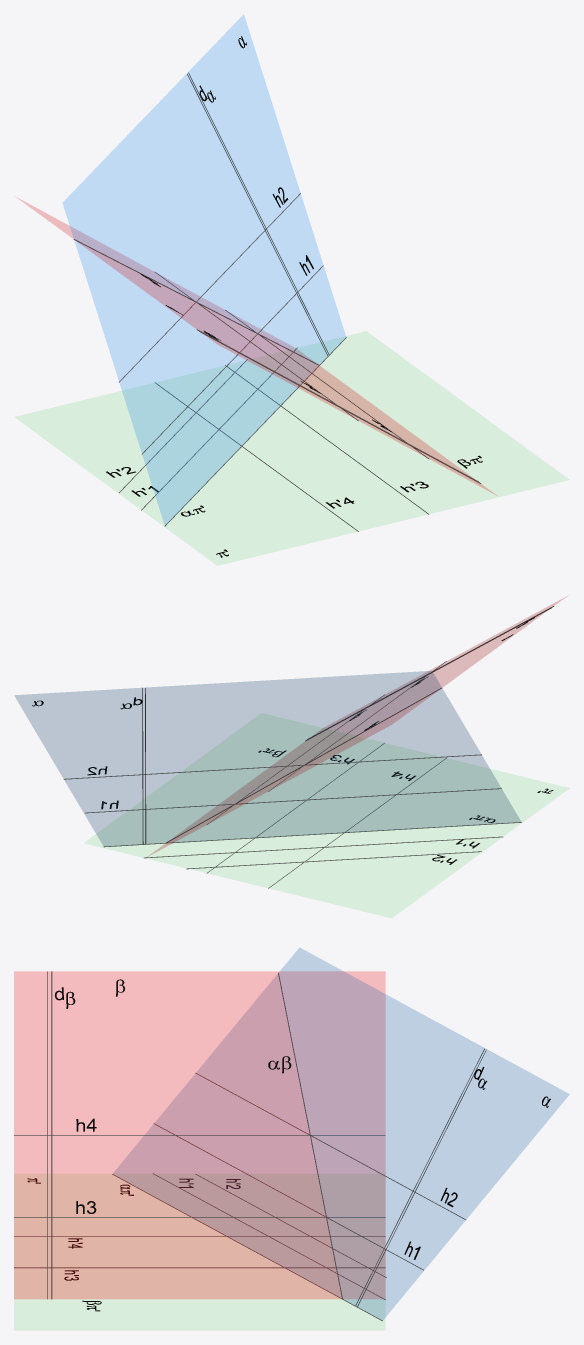
Rendered from int_pq_pqN.glb.
3 renders of one model, top to bottom at view 1: azimuth 30°, elevation 25°; view 2: azimuth 150°, elevation 25°; view 3: azimuth 270°, elevation 25°, orthographic. The views are drawn at different scales.
Parts seen in each view (by area): view 1: root; view 2: root, Pipe (×6); view 3: root, Pipe (×3).
Boxes of the visible parts, box(x1,y1,x2,y2) form: root: box(15, 14, 568, 565); root: box(15, 597, 568, 917); Pipe (×6): box(63, 687, 521, 869); root: box(14, 948, 569, 1330); Pipe (×3): box(14, 971, 385, 1299).
Size of the model in its own units: 2.54 by 1.71 by 3.8.
